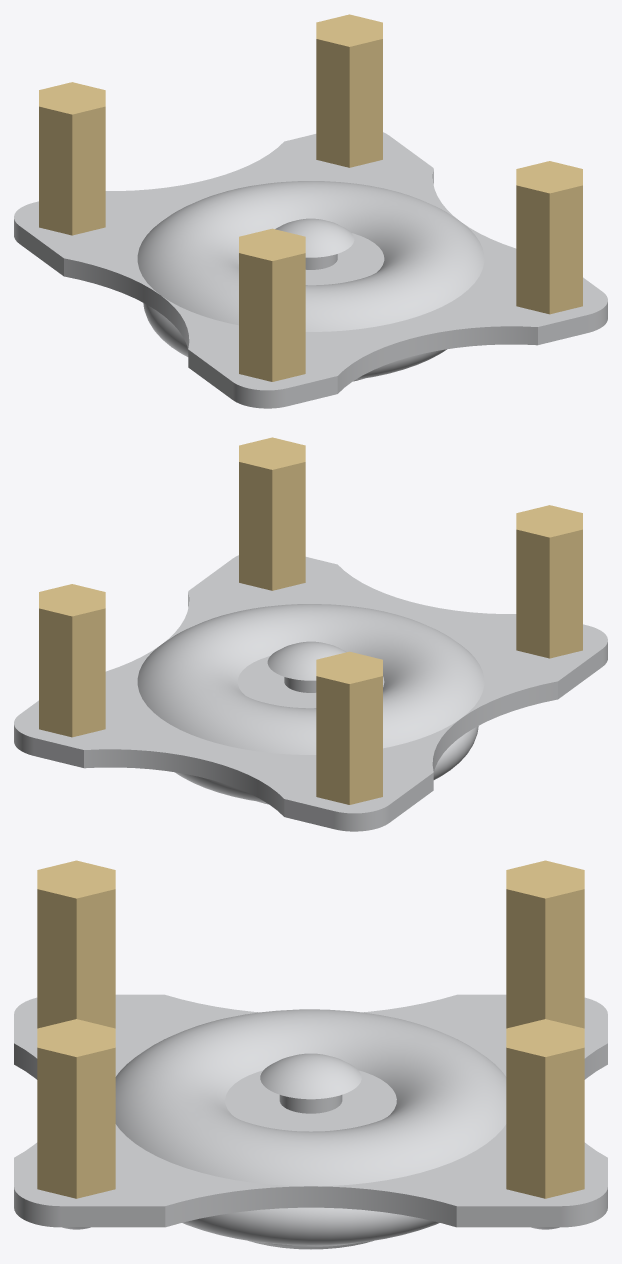
Rendered from caster_base.glb.
3 views of the same model, one above another, from view 1: azimuth 30°, elevation 25°; view 2: azimuth 150°, elevation 25°; view 3: azimuth 270°, elevation 25° (orthographic). The views are drawn at different scales.
Parts seen in each view (by area): view 1: plate, standoffs; view 2: plate, standoffs; view 3: plate, standoffs.
Part boxes in pixels (x1,y1,x2,y2): plate: (14,132,607,408); standoffs: (39,14,582,381); plate: (14,555,607,831); standoffs: (39,437,582,804); plate: (14,994,607,1249); standoffs: (37,860,584,1198).
Size of the model in its own units: 0.032 by 0.0183 by 0.038.
